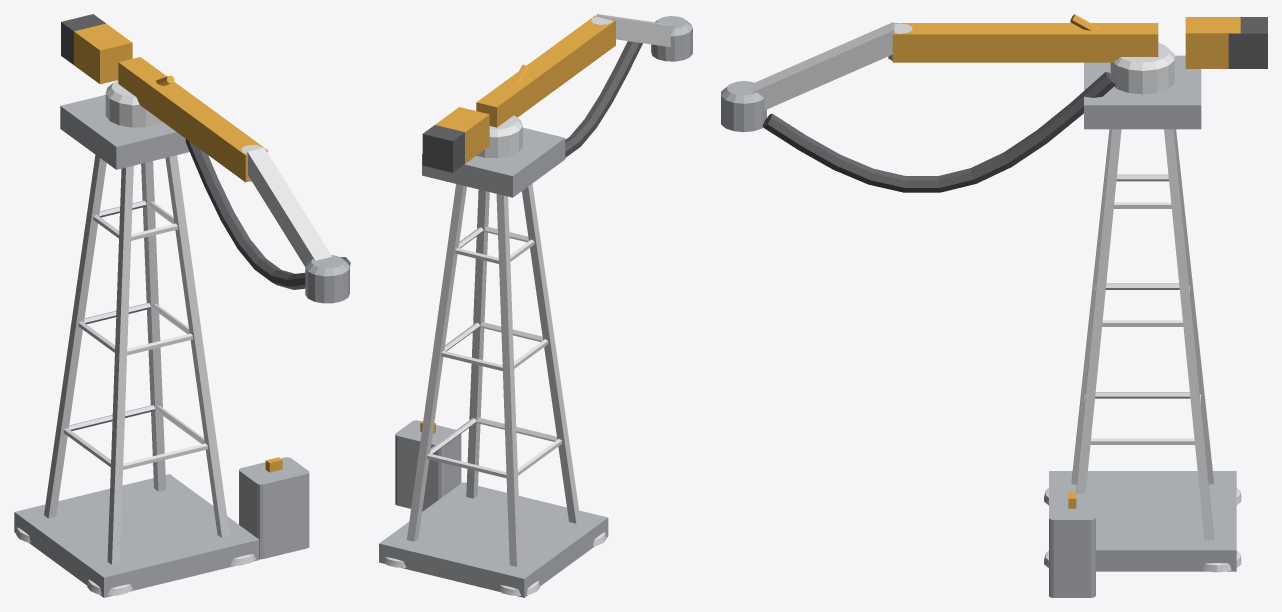
Rendered from cryo-transfer-arm-5d350240.glb.
3 views of the same model, side by side, from view 1: azimuth 30°, elevation 25°; view 2: azimuth 150°, elevation 25°; view 3: azimuth 270°, elevation 25° (orthographic). The views are drawn at different scales.
Visible parts, largest first — view 1: cryo-transfer-arm, arm-inner, arm-outer, coupling; view 2: cryo-transfer-arm, arm-inner, arm-outer, coupling; view 3: cryo-transfer-arm, arm-inner, arm-outer, coupling.
Part boxes in pixels (x1,y1,x2,y2): cryo-transfer-arm: [14, 14, 350, 597]; arm-inner: [74, 23, 267, 182]; arm-outer: [241, 145, 331, 266]; coupling: [305, 255, 349, 303]; cryo-transfer-arm: [379, 41, 642, 597]; arm-inner: [435, 15, 615, 163]; arm-outer: [591, 14, 675, 47]; coupling: [651, 16, 692, 61]; cryo-transfer-arm: [762, 17, 1267, 597]; arm-inner: [892, 14, 1240, 68]; arm-outer: [751, 22, 912, 110]; coupling: [721, 81, 766, 132].
Size of the model in its own units: 3.27 by 7.29 by 6.99.
